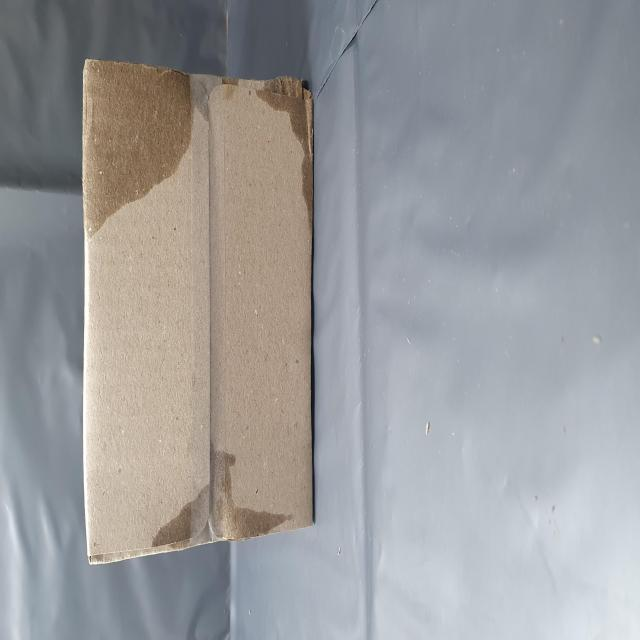wet: (215, 141, 330, 353)
